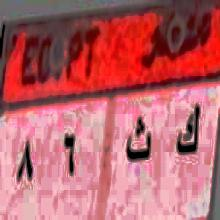6: (62, 127, 77, 179)
8: (15, 138, 34, 186)
kaaf: (173, 103, 200, 161)
thaa: (125, 115, 152, 168)
